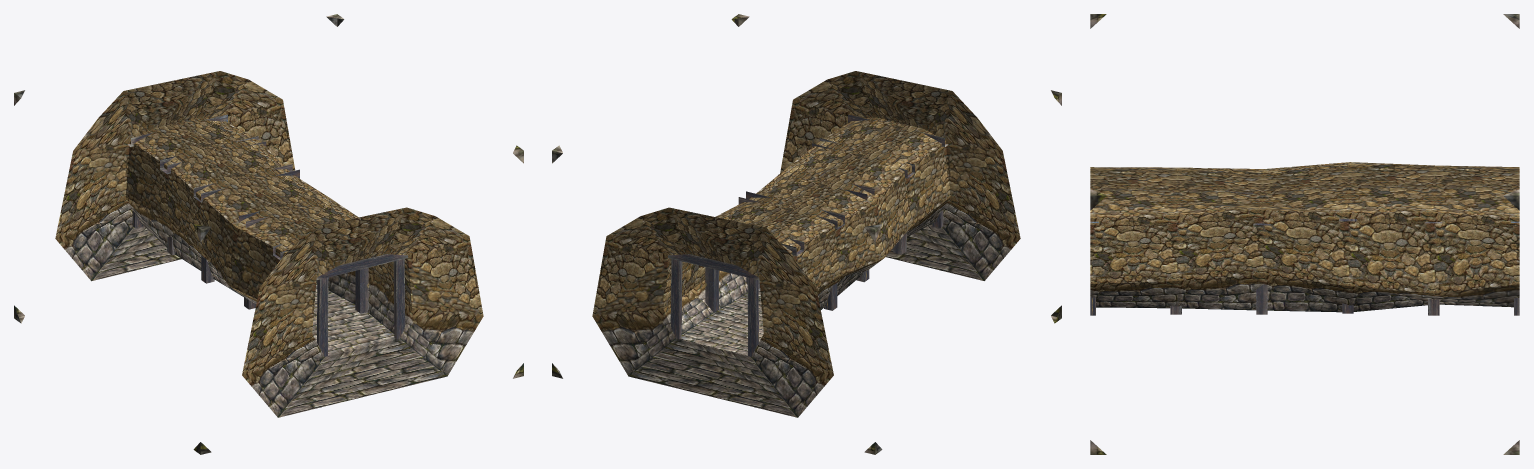
Rendered from Lbm_2f.glb.
3 renders of one model, left to right at view 1: azimuth 30°, elevation 25°; view 2: azimuth 150°, elevation 25°; view 3: azimuth 270°, elevation 25°, orthographic. The views are drawn at different scales.
Parts seen in each view (by area): view 1: Lbm_2f-col; view 2: Lbm_2f-col; view 3: Lbm_2f-col.
Part boxes in pixels (x1,y1,x2,y2): Lbm_2f-col: (14,14,523,454); Lbm_2f-col: (552,14,1061,454); Lbm_2f-col: (1090,14,1519,454).
Size of the model in its own units: 15 by 10 by 15.
Materials: 5 (5 with a texture image).
